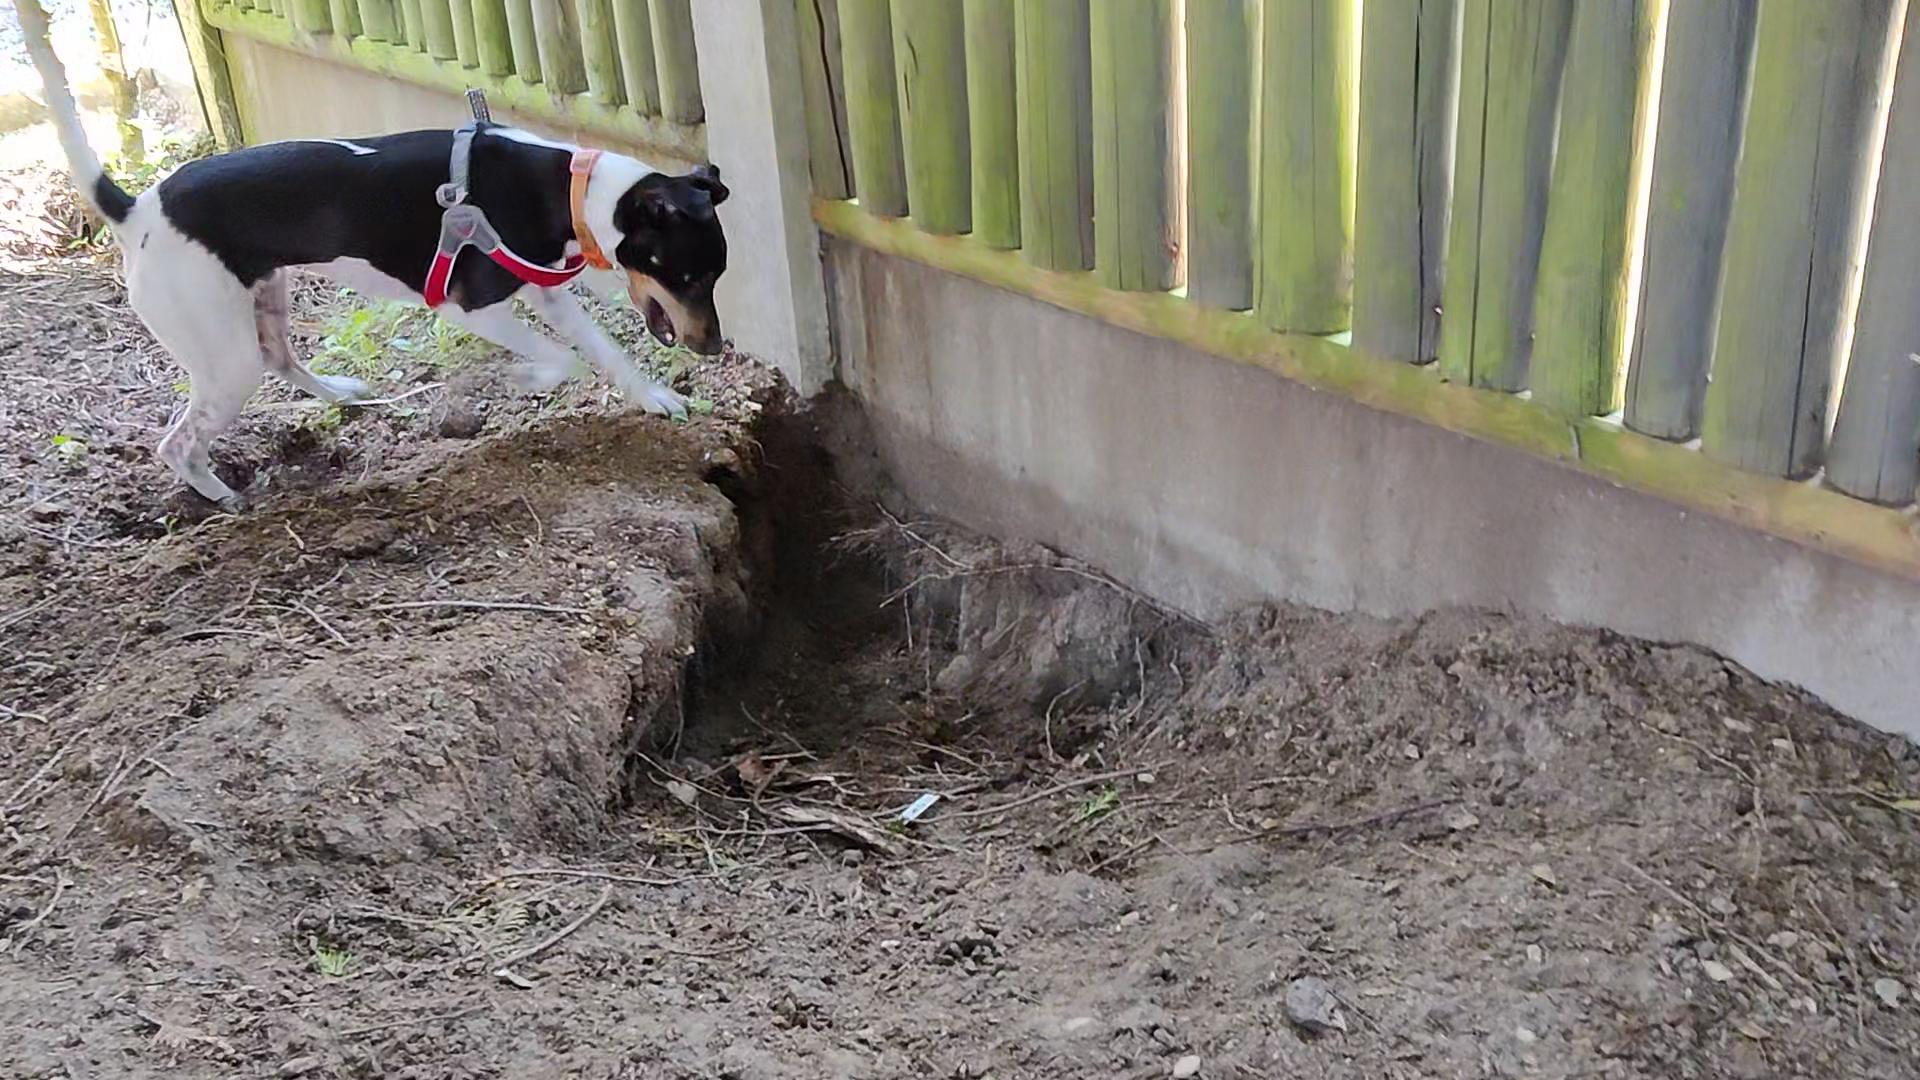Dog: (7, 0, 746, 512)
